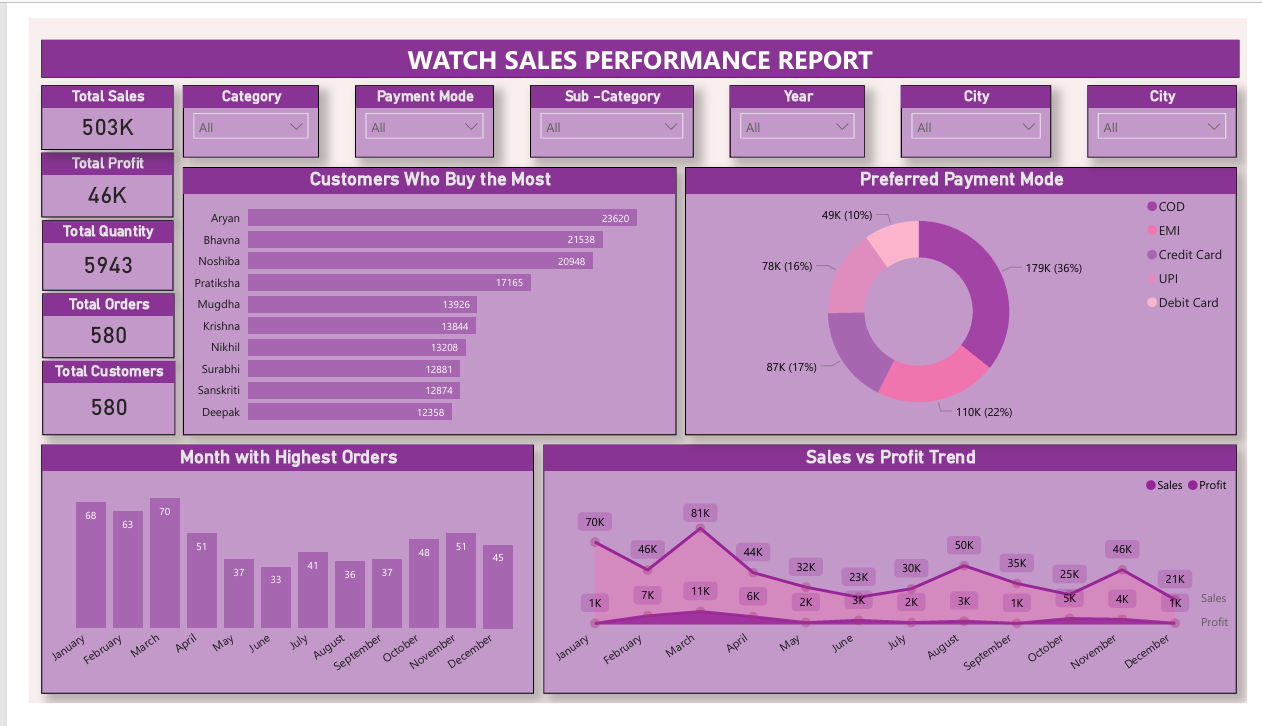

The dashboard page shown, as its layout file describes it:
{"tool":"powerbi","page":{"name":"Performance Overview","canvas":[1280,720],"ordinal":0},"visuals":[{"type":"card","title":"Total Profit","fields":{"Values":["Sum(Details_1.Profit)"]},"box":[11.7,141,139.1,68.1],"z":0},{"type":"card","title":"Total Sales","fields":{"Values":["Sum(Details_1.Amount)"]},"box":[11.7,70,139.1,68.1],"z":1000},{"type":"card","title":"Total Quantity","fields":{"Values":["Sum(Details_1.Quantity)"]},"box":[12.6,212,138.1,73.9],"z":2000},{"type":"card","title":"Total Orders","fields":{"Values":["CountNonNull(Orders_1.Order ID)"]},"box":[12.6,288.9,139.1,68.1],"z":3000},{"type":"card","title":"Total Customers","fields":{"Values":["CountNonNull(Orders_1.CustomerName)"]},"box":[12.6,359.9,140.1,77.8],"z":4000},{"type":"slicer","title":"Year","fields":{"Values":["Orders_1.Order Date.Variation.Date Hierarchy.Year"]},"box":[736.3,70,142,75.9],"z":5000},{"type":"slicer","title":"Category","fields":{"Values":["Details_1.Category"]},"box":[161.5,70,143,75.9],"z":6000},{"type":"slicer","title":"Payment Mode","fields":{"Values":["Details_1.PaymentMode"]},"box":[342.4,70,145.9,75.9],"z":7000},{"type":"slicer","title":"Sub -Category","fields":{"Values":["Details_1.Sub-Category"]},"box":[526.2,70,172.2,75.9],"z":8000},{"type":"slicer","title":"City","fields":{"Values":["Orders_1.State"]},"box":[916.2,70,157.6,75.9],"z":9000},{"type":"clusteredBarChart","title":"Customers Who Buy the Most","fields":{"Category":["Orders_1.CustomerName"],"Y":["Sum(Details_1.Amount)"]},"box":[161.5,155.6,518.4,282.1],"z":10000},{"type":"columnChart","title":"Month with Highest Orders","fields":{"Category":["Orders_1.Order Date.Variation.Date Hierarchy.Month"],"Y":["CountNonNull(Orders_1.Order ID)"]},"box":[11.7,448.4,518.4,261.6],"z":11000},{"type":"lineChart","title":"Sales vs Profit Trend","fields":{"Category":["Orders_1.Order Date.Variation.Date Hierarchy.Month"],"Y":["Sum(Details_1.Amount)","Sum(Details_1.Profit)"]},"box":[539.8,448.4,729.5,261.6],"z":12000},{"type":"donutChart","title":"Preferred Payment Mode","fields":{"Category":["Details_1.PaymentMode"],"Y":["Sum(Details_1.Amount)"]},"box":[688.6,155.6,580.7,282.1],"z":13000},{"type":"shape","box":[11.7,22.4,1260.5,39.9],"z":14000},{"type":"slicer","title":"Order ID","fields":{"Values":["Details_1.Order ID"]},"box":[1111.7,70,157.6,75.9],"z":15000}]}

Visuals, with their boxes in screenshot pixels (x1, y1, x2, y2), scaled from the page's 1280x720 canvas onto the 1262x726 screenshot:
"Total Profit" card: Rect(12, 142, 149, 211)
"Total Sales" card: Rect(12, 71, 149, 139)
"Total Quantity" card: Rect(12, 214, 149, 288)
"Total Orders" card: Rect(12, 291, 150, 360)
"Total Customers" card: Rect(12, 363, 151, 441)
"Year" slicer: Rect(726, 71, 866, 147)
"Category" slicer: Rect(159, 71, 300, 147)
"Payment Mode" slicer: Rect(338, 71, 481, 147)
"Sub -Category" slicer: Rect(519, 71, 689, 147)
"City" slicer: Rect(903, 71, 1059, 147)
"Customers Who Buy the Most" clusteredBarChart: Rect(159, 157, 670, 441)
"Month with Highest Orders" columnChart: Rect(12, 452, 523, 716)
"Sales vs Profit Trend" lineChart: Rect(532, 452, 1251, 716)
"Preferred Payment Mode" donutChart: Rect(679, 157, 1251, 441)
shape: Rect(12, 23, 1254, 63)
"Order ID" slicer: Rect(1096, 71, 1251, 147)
